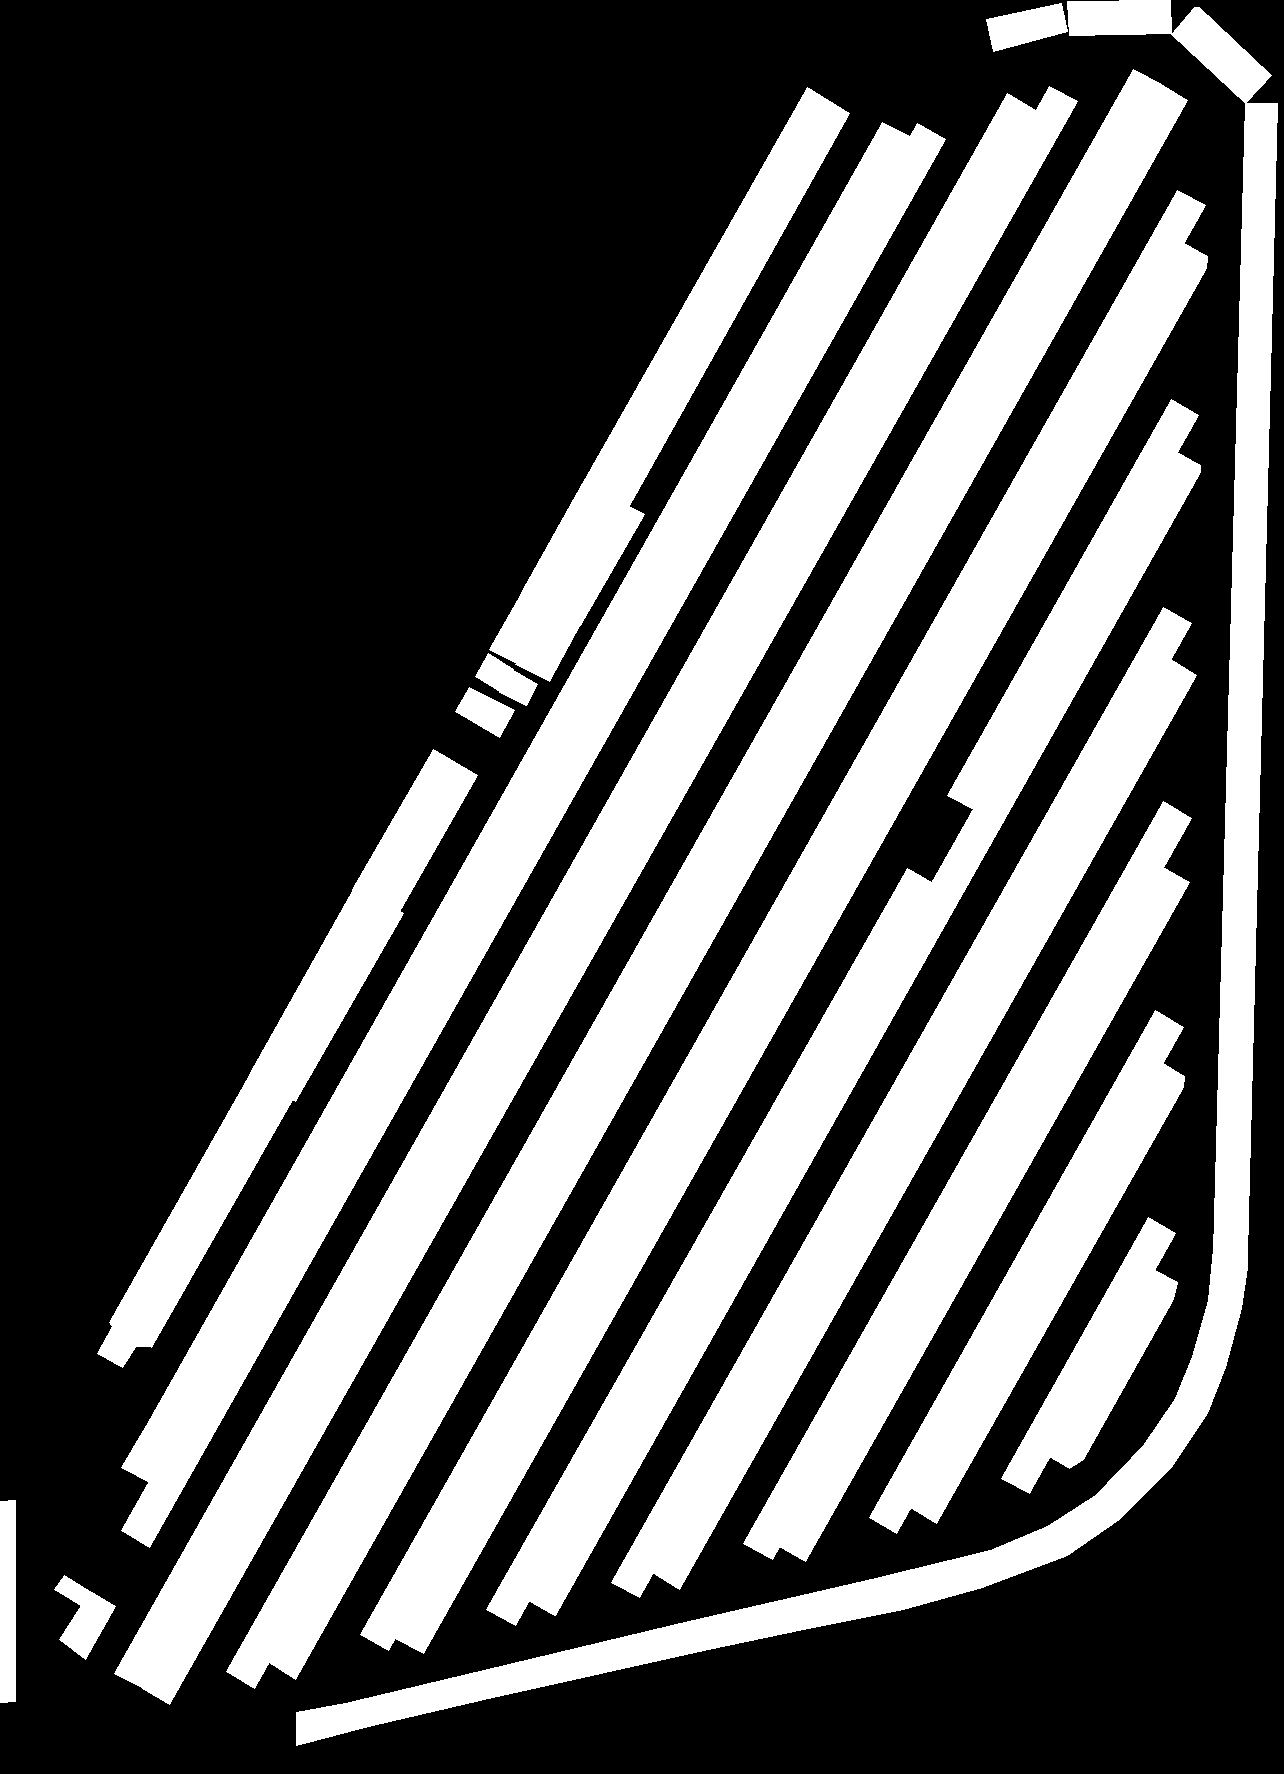parkingspot: (226, 69, 1161, 1689), (142, 85, 1077, 1704), (114, 94, 1037, 1689), (267, 83, 1188, 1679), (360, 190, 1205, 1650), (121, 123, 945, 1547), (393, 242, 1207, 1653), (121, 123, 913, 1483), (526, 450, 1200, 1616), (610, 607, 1190, 1596), (650, 658, 1196, 1589), (296, 1248, 1247, 1745), (743, 802, 1190, 1559), (486, 868, 933, 1625), (777, 866, 1189, 1561), (869, 1010, 1183, 1533), (908, 1062, 1183, 1523), (581, 87, 849, 510), (946, 399, 1199, 810), (1212, 103, 1277, 1253), (96, 1073, 293, 1368), (1002, 1218, 1175, 1493), (273, 899, 404, 1100), (249, 887, 379, 1089), (1047, 1270, 1177, 1468), (353, 749, 477, 915), (546, 497, 643, 625), (521, 483, 609, 606), (1171, 7, 1272, 103), (515, 605, 581, 680), (489, 594, 547, 662), (986, 3, 1066, 51), (59, 1591, 114, 1660), (1066, 0, 1171, 34), (0, 1500, 15, 1702), (455, 687, 514, 737), (475, 653, 512, 691), (499, 669, 537, 705), (54, 1576, 91, 1606)
